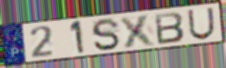1: (69, 19, 86, 56)
2: (29, 25, 55, 60)
B: (153, 10, 186, 45)
S: (90, 17, 122, 52)
U: (186, 6, 216, 41)
X: (118, 13, 158, 49)
